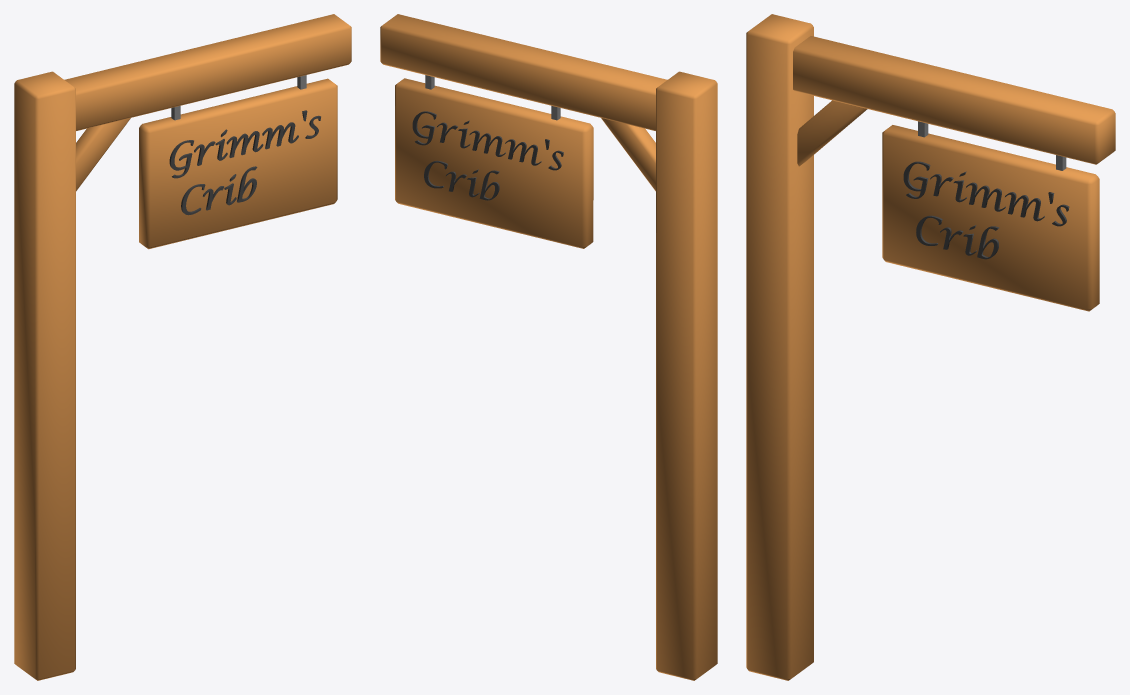
File: Sign (2).fbx
3 renders of one model, left to right at view 1: azimuth 30°, elevation 25°; view 2: azimuth 150°, elevation 25°; view 3: azimuth 330°, elevation 25°, orthographic. The views are drawn at different scales.
Parts seen in each view (by area): view 1: Sign_Post; view 2: Sign_Post; view 3: Sign_Post.
Boxes of the visible parts, bbox=[...] form: Sign_Post: bbox=[14, 14, 351, 680]; Sign_Post: bbox=[380, 14, 717, 680]; Sign_Post: bbox=[746, 14, 1115, 680].
Size of the model in its own units: 587 by 1027 by 75.64.
